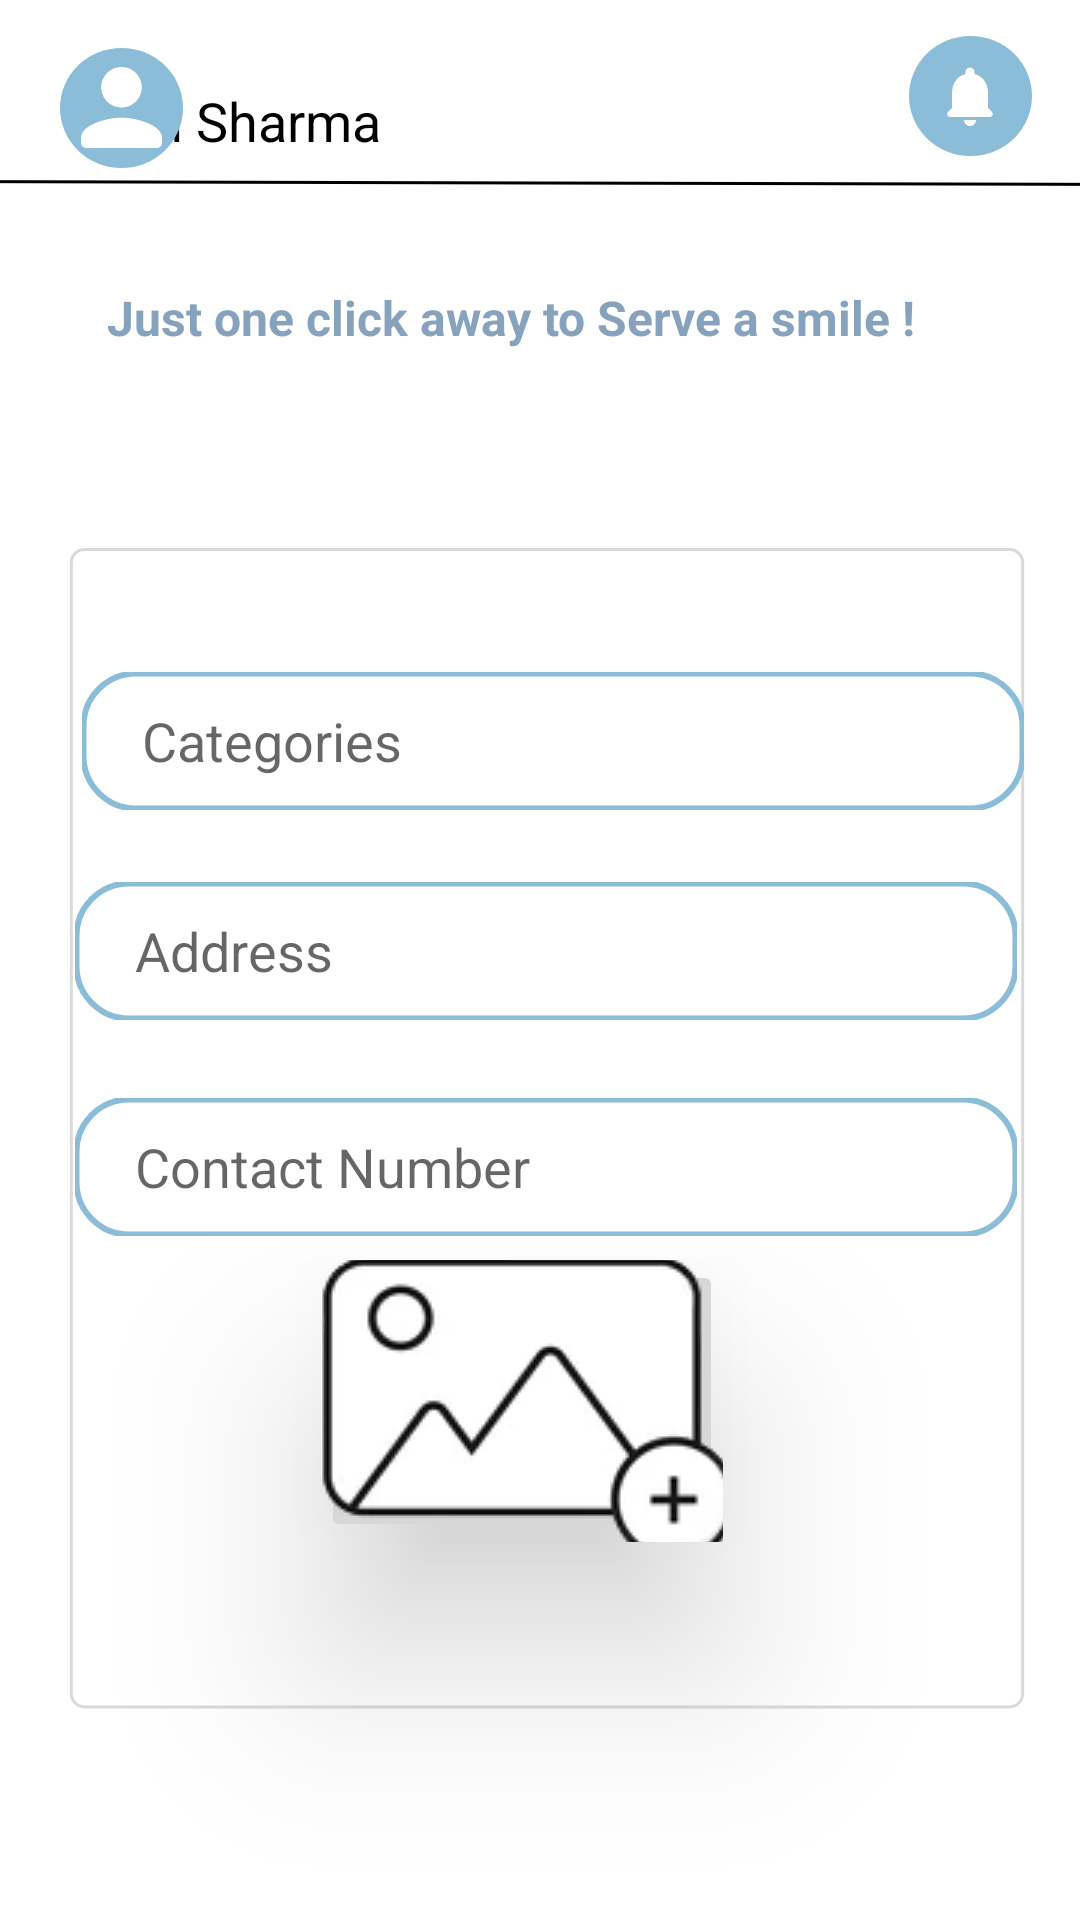

Screen size 1080×1920. Icon name, then its box in pixels as (x1, y1, x2, y2):
notification: (909, 36, 1032, 156)
profile: (60, 48, 183, 168)
